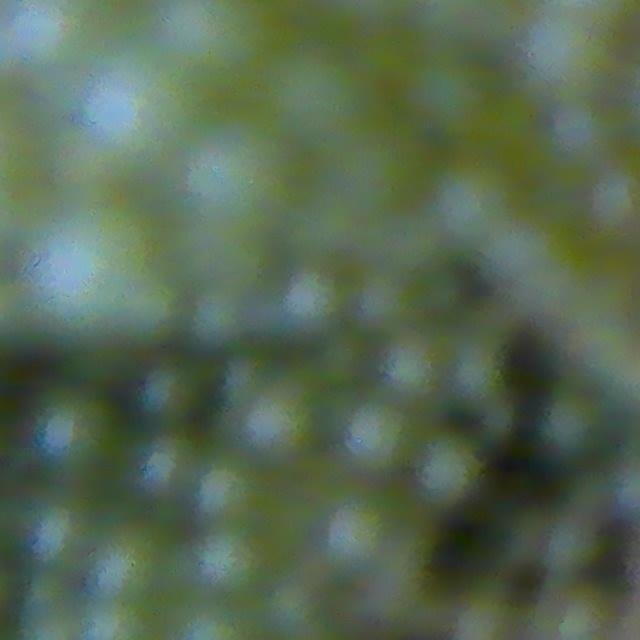SeaGrape: (51, 60, 208, 174), (25, 217, 162, 338), (169, 126, 298, 227), (265, 44, 373, 148), (0, 0, 106, 90), (520, 18, 625, 94), (403, 54, 494, 141), (429, 156, 518, 244), (29, 387, 116, 477), (87, 525, 165, 604), (189, 523, 265, 600), (542, 97, 619, 173), (238, 392, 318, 465), (340, 397, 414, 475), (272, 266, 345, 340), (322, 493, 391, 569), (378, 330, 448, 403), (528, 585, 615, 640), (412, 436, 478, 505), (536, 390, 602, 458), (195, 459, 261, 523), (591, 156, 640, 242), (186, 284, 249, 349), (541, 512, 602, 577), (258, 579, 322, 640), (137, 363, 199, 424), (33, 505, 96, 565), (132, 428, 185, 498), (458, 345, 515, 398), (491, 402, 528, 445)
